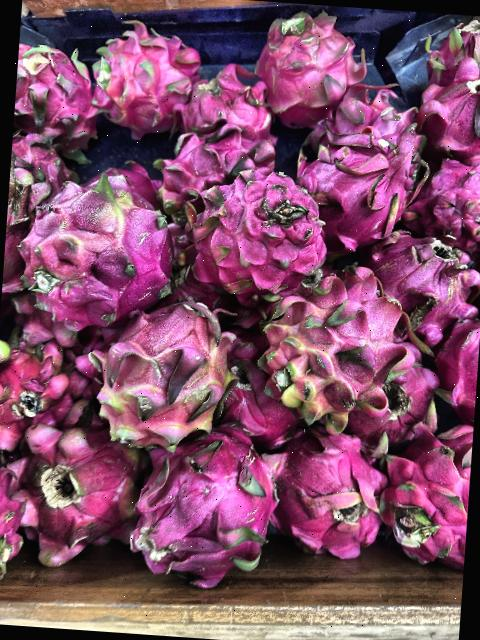buah-naga-belum-matang: (255, 255, 422, 429), (97, 304, 245, 452)
buah-naga-matang: (29, 162, 191, 327), (126, 423, 280, 582), (1, 420, 146, 562), (186, 166, 334, 300), (258, 430, 389, 558), (374, 414, 474, 568), (78, 20, 202, 135), (290, 134, 402, 258), (150, 114, 268, 228), (364, 221, 480, 330), (250, 3, 366, 112), (0, 325, 94, 443), (12, 36, 99, 148), (406, 148, 480, 247), (174, 72, 274, 140), (424, 312, 480, 424), (412, 68, 480, 159), (8, 133, 82, 193), (425, 13, 480, 82)
